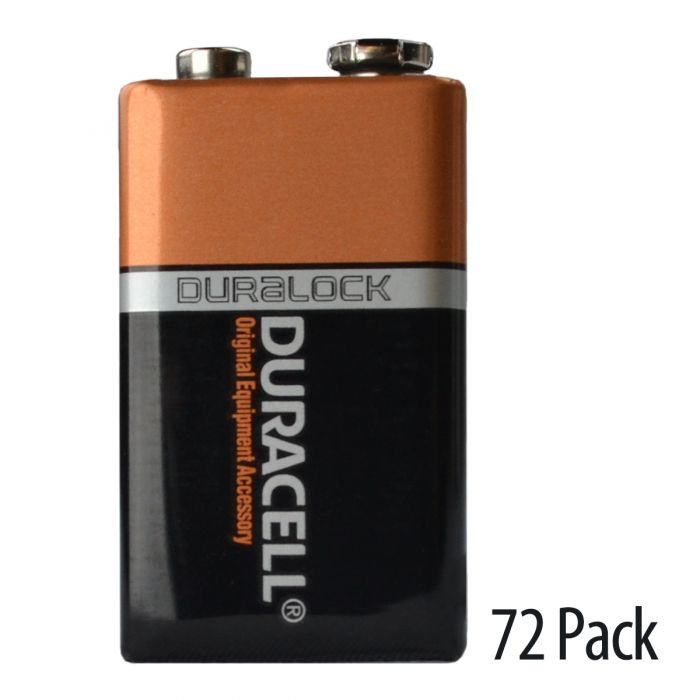Nonrec_Other: (82, 15, 483, 664)
